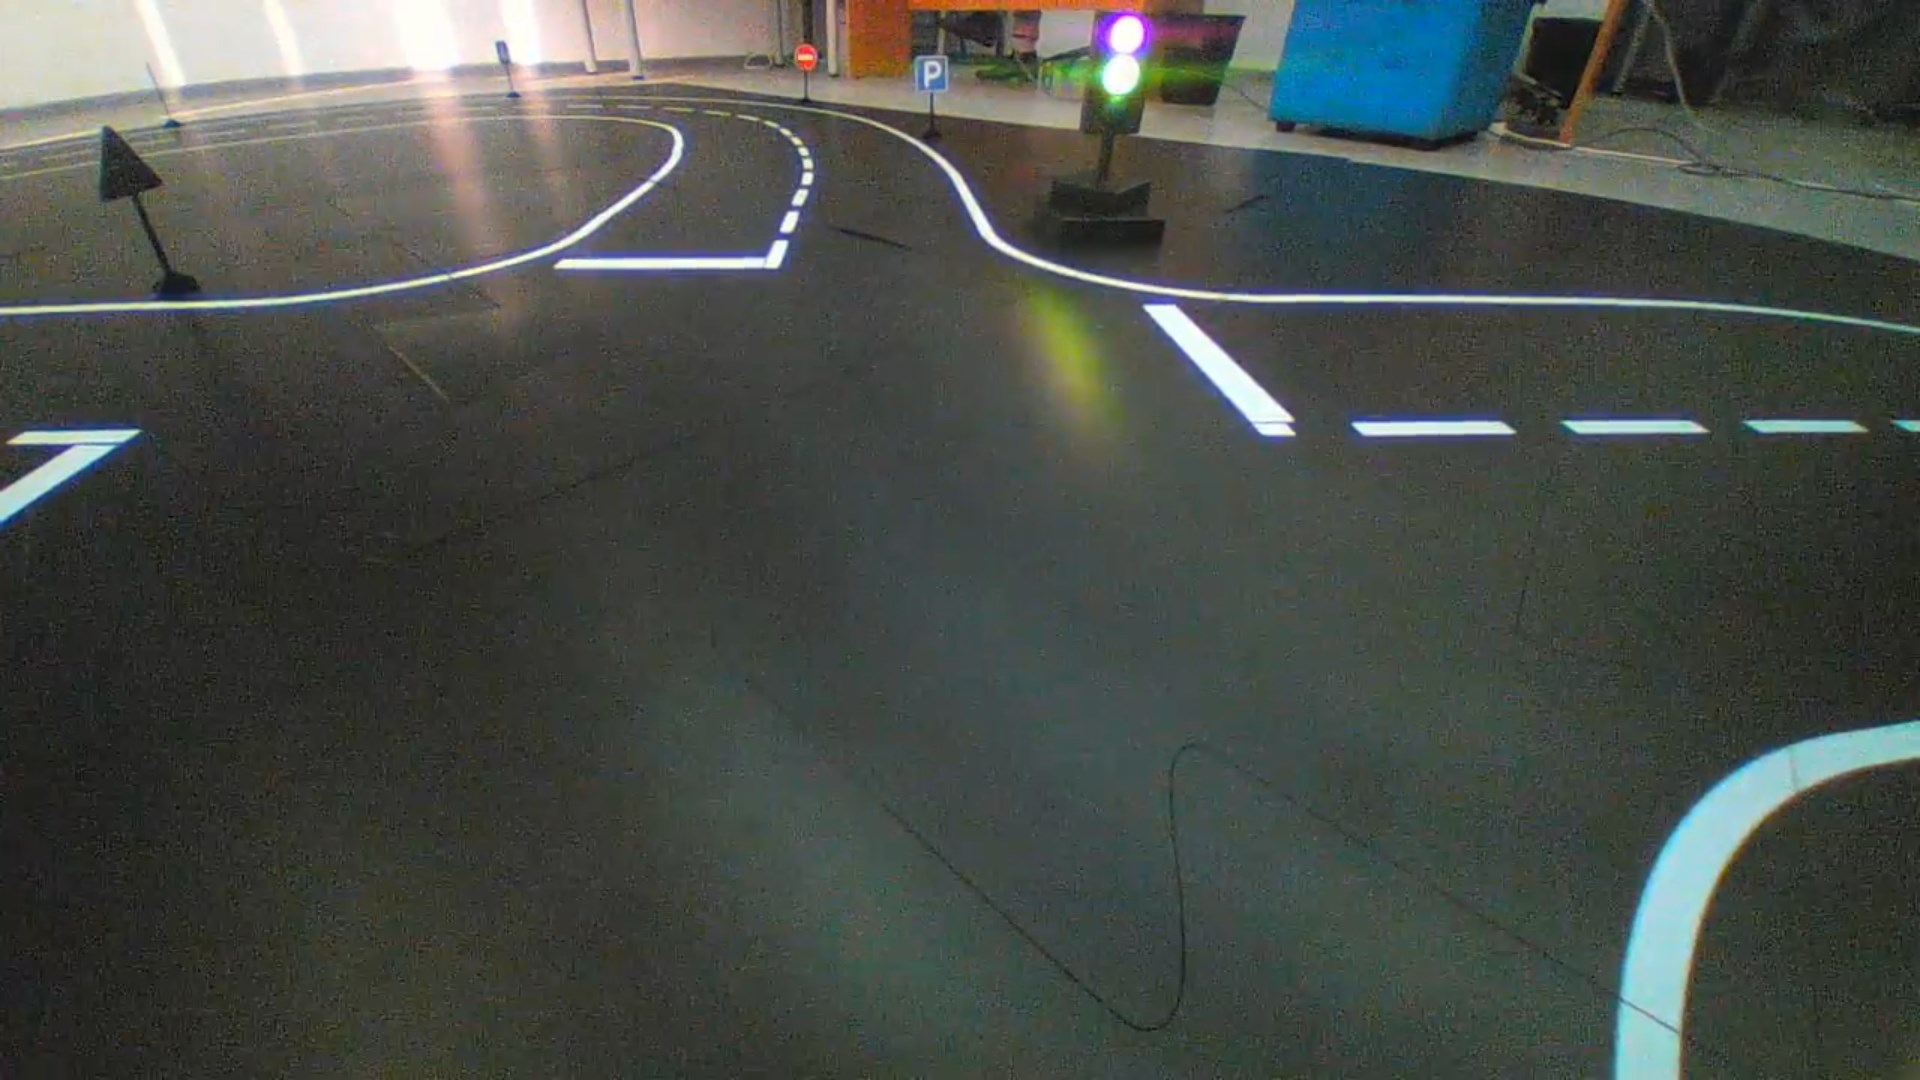trafficlight: (1077, 11, 1156, 135)
